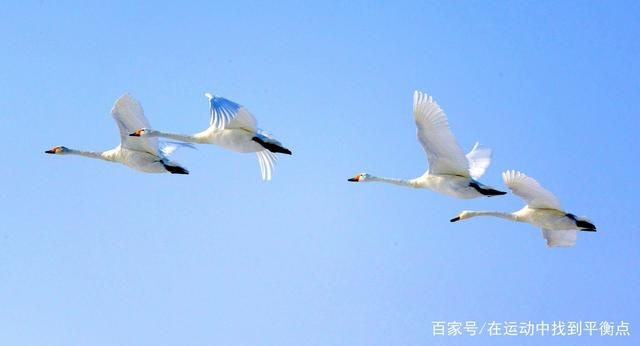bird: (342, 88, 509, 202), (124, 94, 293, 179), (31, 89, 195, 175), (443, 171, 605, 246)
